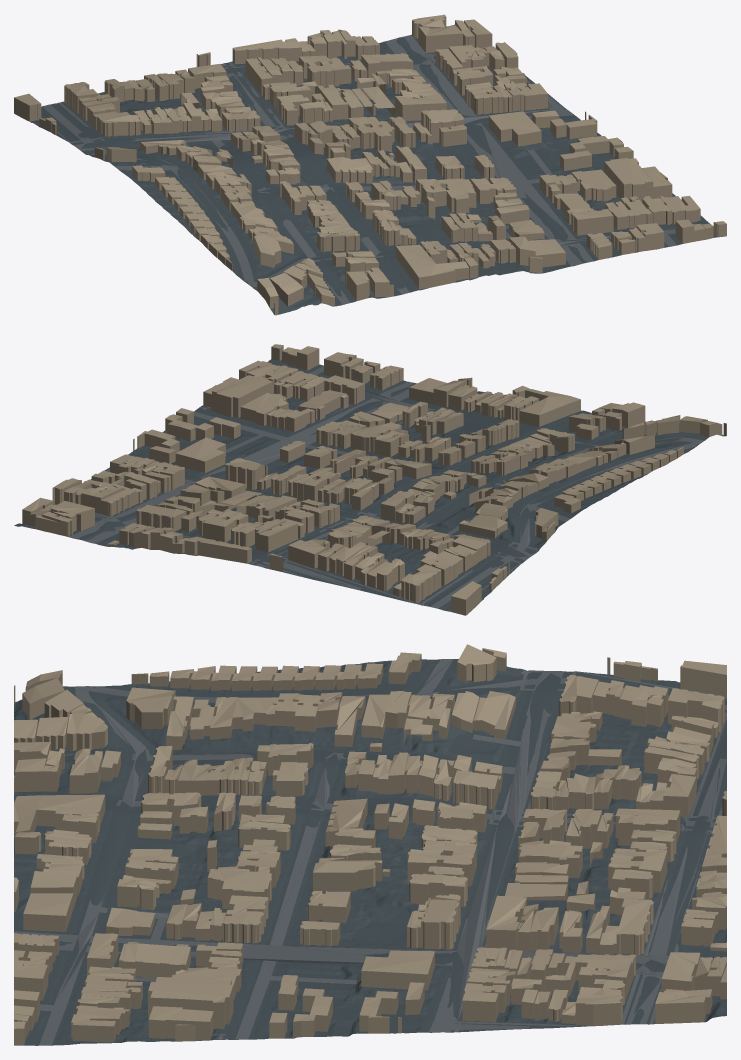
The model's file is epsg26910-1430-10889.lod0.glb.
3 renders of one model, top to bottom at view 1: azimuth 30°, elevation 25°; view 2: azimuth 150°, elevation 25°; view 3: azimuth 270°, elevation 25°, orthographic. The views are drawn at different scales.
Visible parts, largest first — view 1: epsg26910-1430-10889-lod0; view 2: epsg26910-1430-10889-lod0; view 3: epsg26910-1430-10889-lod0.
Boxes of the visible parts, x1=… form: epsg26910-1430-10889-lod0: x1=14, y1=14, x2=726, y2=315; epsg26910-1430-10889-lod0: x1=14, y1=344, x2=726, y2=615; epsg26910-1430-10889-lod0: x1=14, y1=644, x2=726, y2=1045.
Bounding box in the file's own units: 384 × 60.72 × 384.
